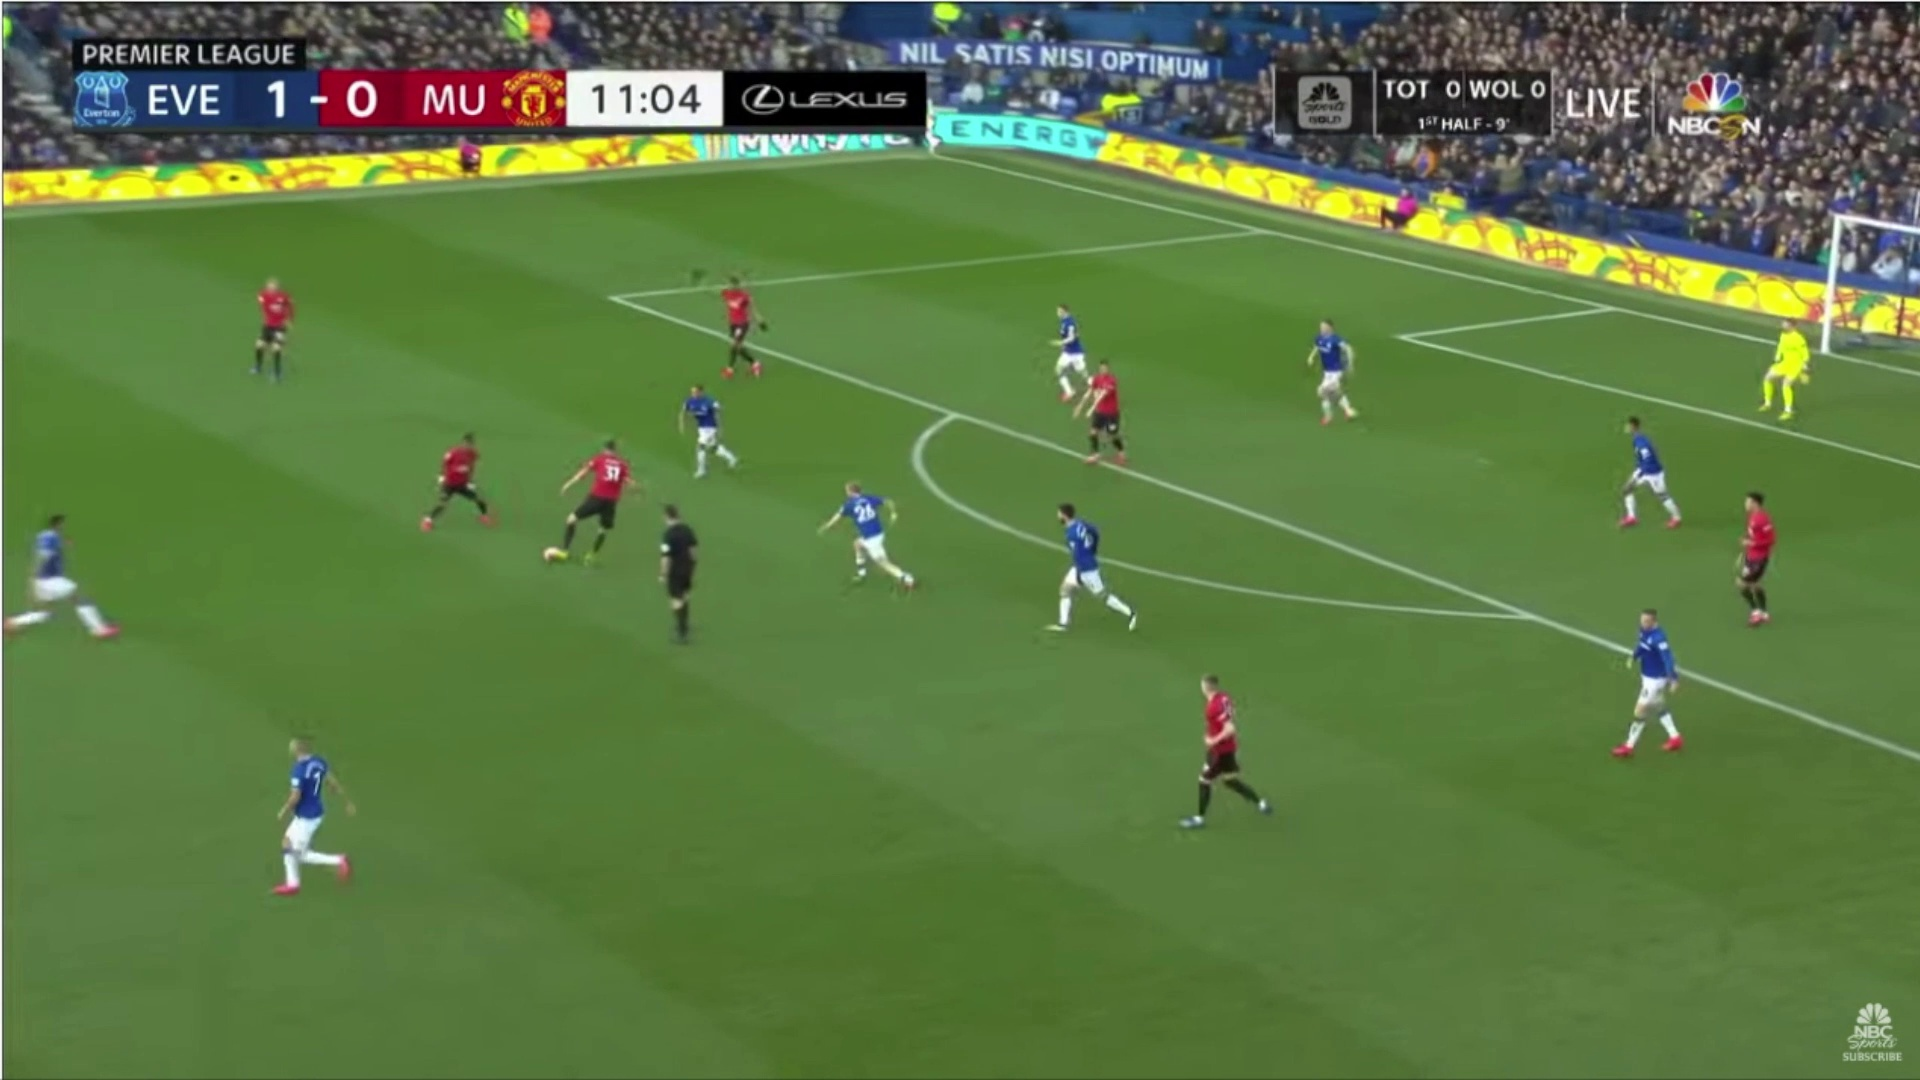ball: (531, 535, 568, 571)
player: (245, 719, 387, 910), (8, 487, 139, 683), (1177, 665, 1293, 840), (1024, 485, 1152, 640), (1606, 590, 1702, 763), (814, 469, 937, 600), (1604, 396, 1702, 544), (1722, 481, 1804, 644), (227, 248, 318, 392), (558, 423, 633, 594), (406, 404, 499, 540), (1289, 312, 1377, 437), (666, 381, 747, 492), (697, 271, 783, 375), (1749, 304, 1814, 429), (1081, 356, 1143, 467), (1041, 300, 1095, 410)
